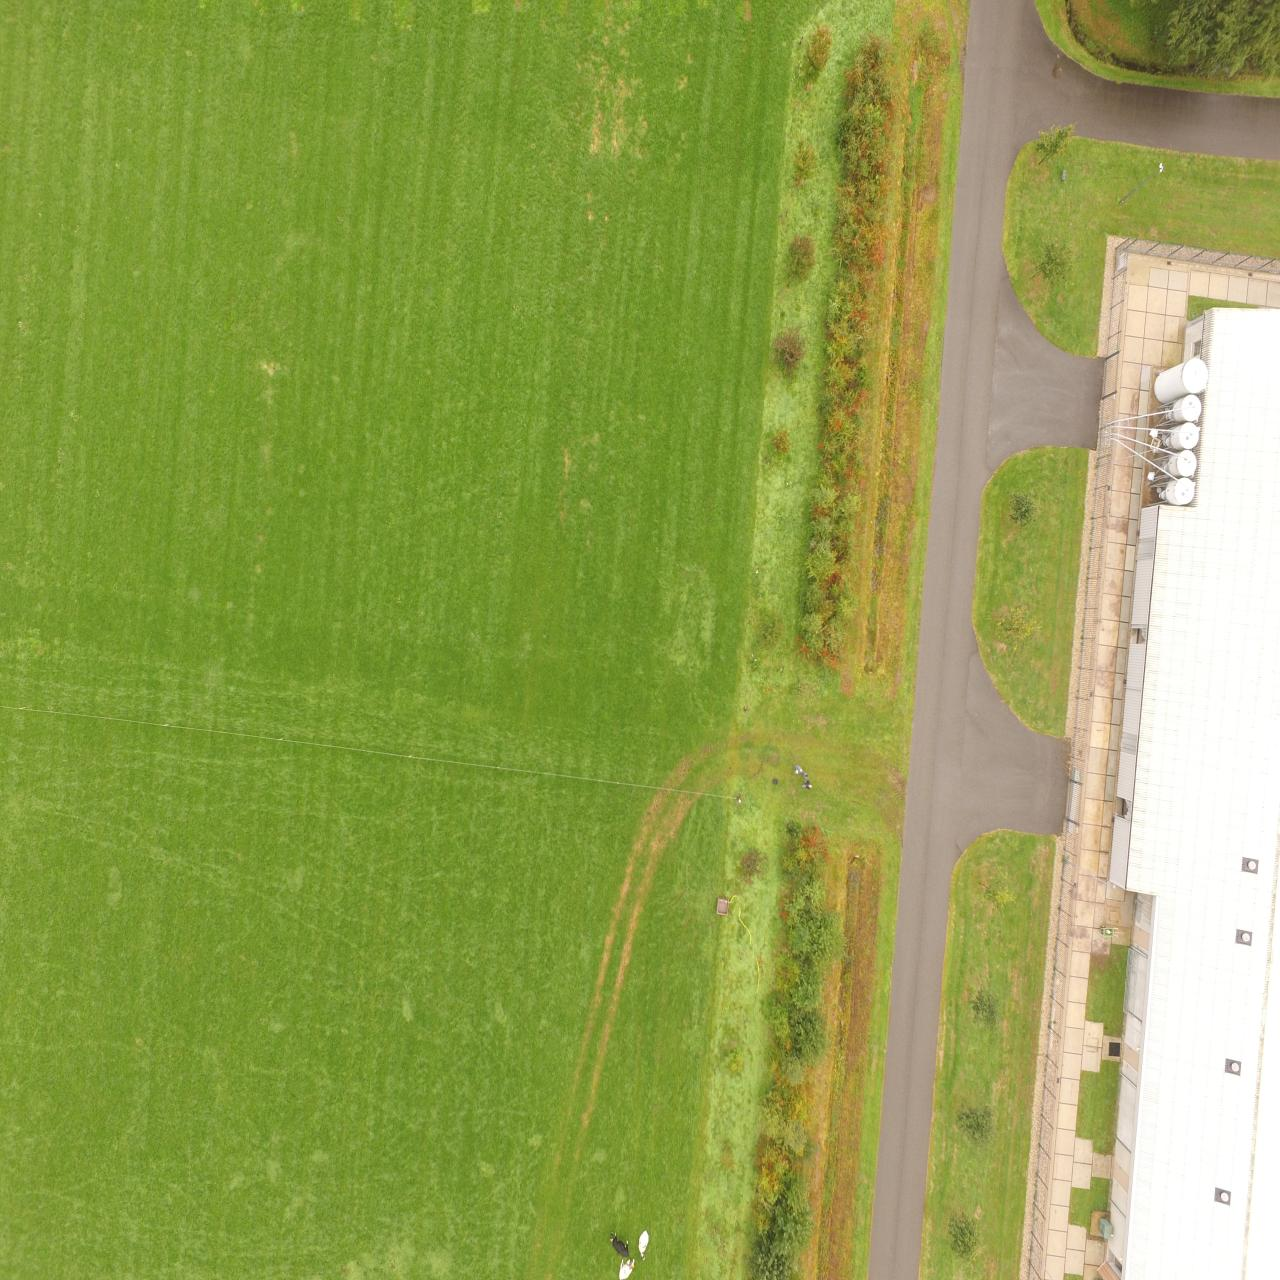cow: (607, 1232, 631, 1258), (617, 1253, 635, 1280), (636, 1230, 651, 1260)
